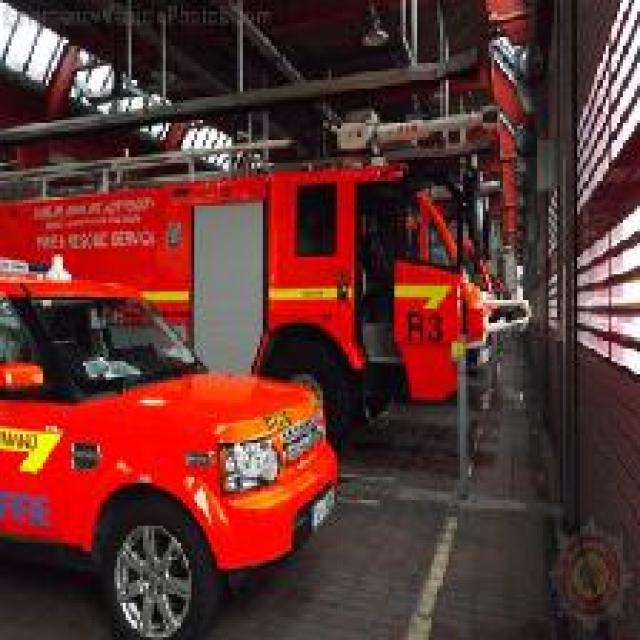Fire-truck: (0, 109, 517, 448)
Police-car: (0, 249, 340, 637)
